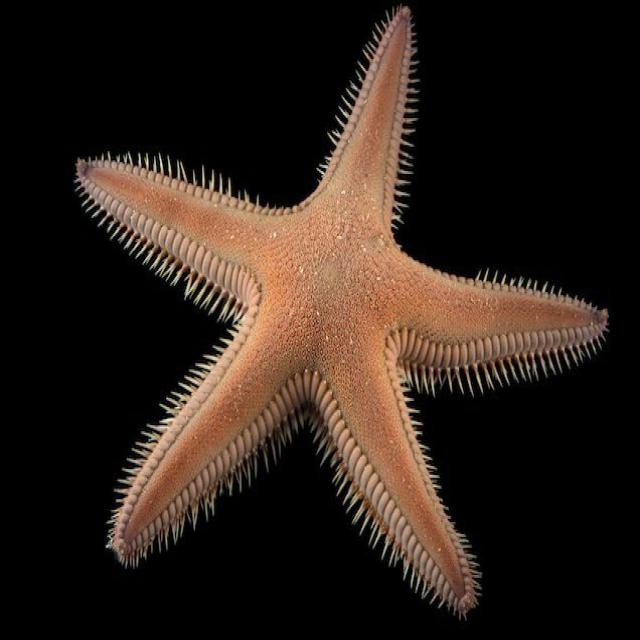starfish: (76, 8, 607, 613)
